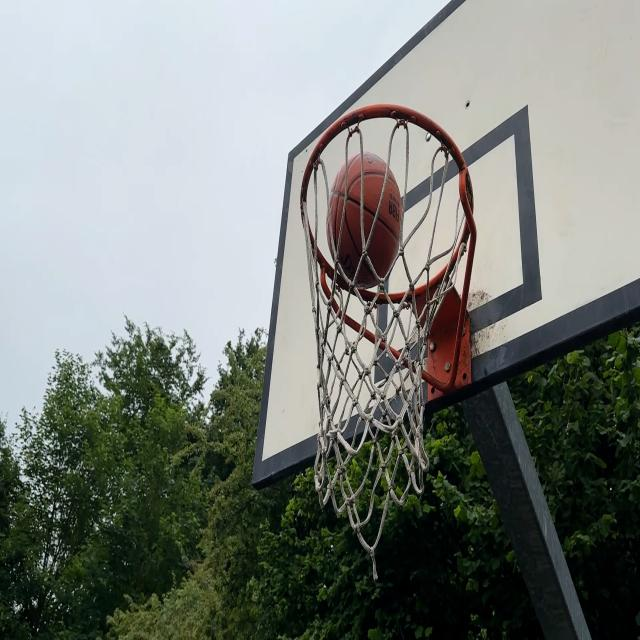rebound_hit: (329, 156, 402, 290)
